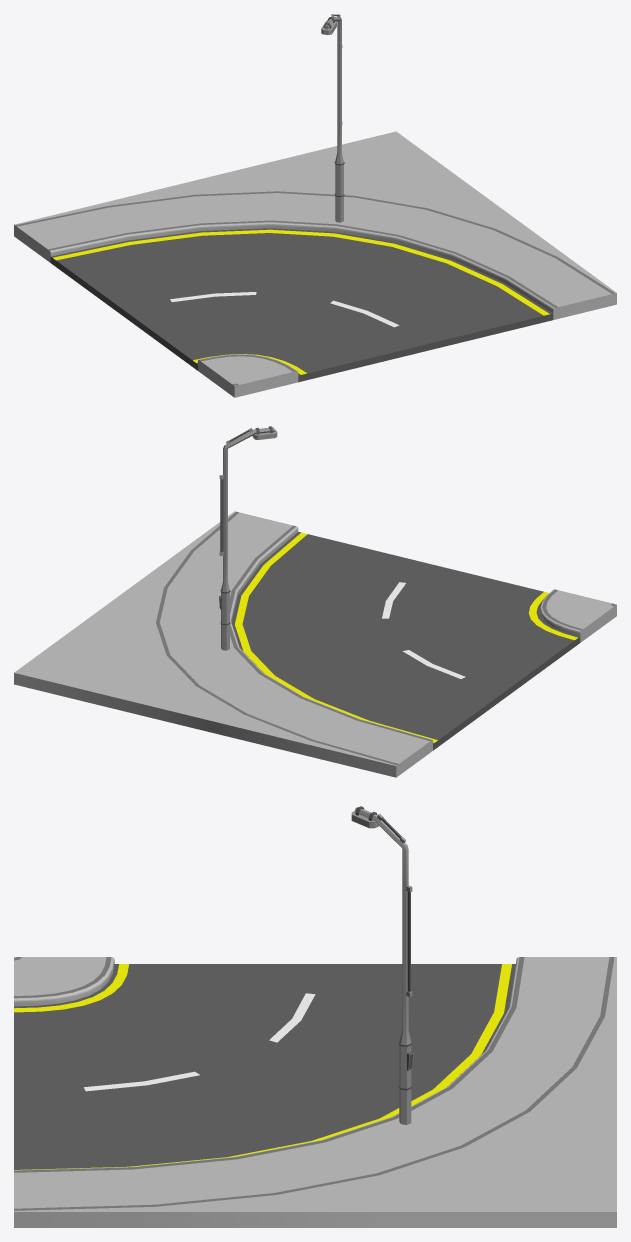
Rendered from SM_Road_Turn_03.FBX.
3 views of the same model, one above another, from view 1: azimuth 30°, elevation 25°; view 2: azimuth 150°, elevation 25°; view 3: azimuth 270°, elevation 25° (orthographic). The views are drawn at different scales.
Visible parts, largest first — view 1: SM_Road_Turn_03; view 2: SM_Road_Turn_03; view 3: SM_Road_Turn_03.
Part boxes in pixels (x1,y1,x2,y2): SM_Road_Turn_03: (14,14,616,397); SM_Road_Turn_03: (14,426,616,777); SM_Road_Turn_03: (14,806,616,1227).
Bounding box in the file's own units: 6 × 3.44 × 6.
1 material, 1 textured.
